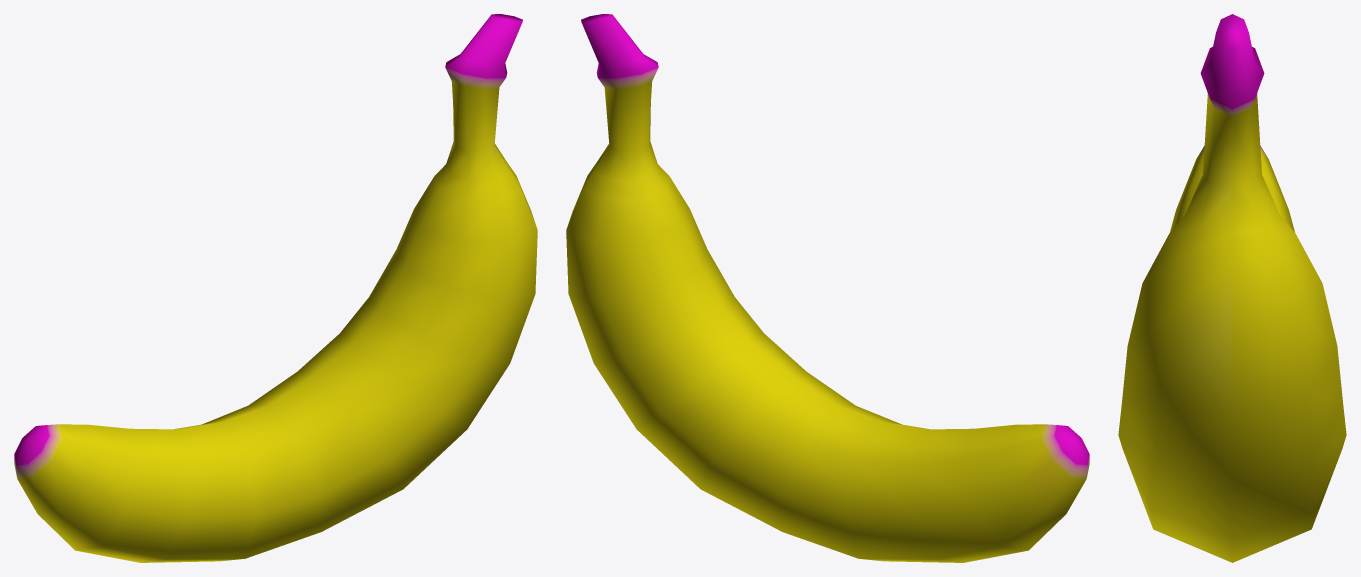
File: banana.fbx
3 renders of one model, left to right at view 1: azimuth 30°, elevation 25°; view 2: azimuth 150°, elevation 25°; view 3: azimuth 270°, elevation 25°, orthographic. The views are drawn at different scales.
Visible parts, largest first — view 1: Cylinder.001; view 2: Cylinder.001; view 3: Cylinder.001.
Part boxes in pixels (x1,y1,x2,y2): Cylinder.001: [14, 14, 537, 562]; Cylinder.001: [566, 14, 1089, 562]; Cylinder.001: [1118, 14, 1346, 562].
Size of the model in its own units: 72.19 by 64.08 by 19.72.
